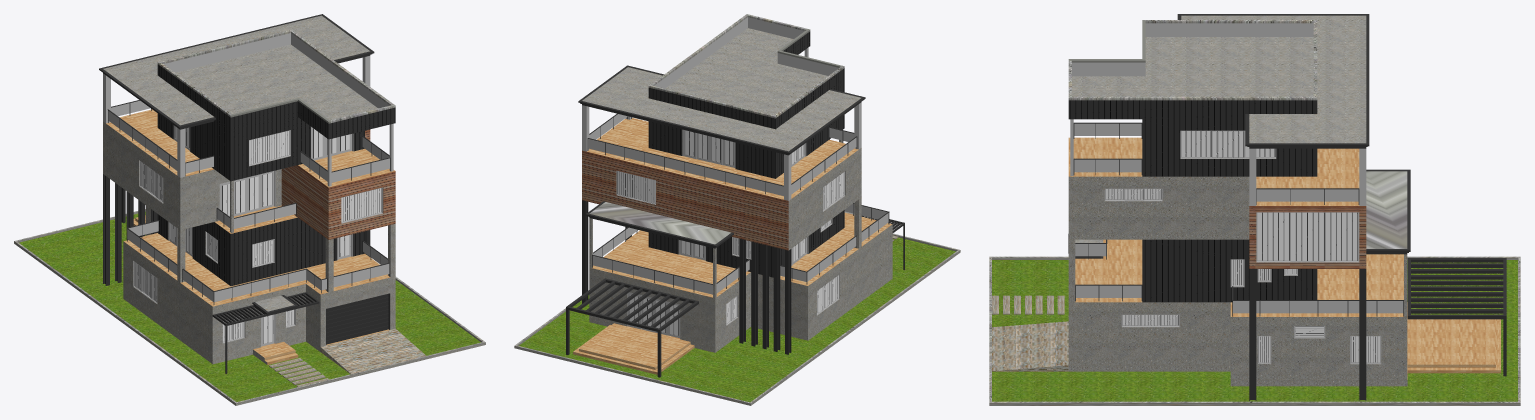
3 views of the same model, side by side, from view 1: azimuth 30°, elevation 25°; view 2: azimuth 150°, elevation 25°; view 3: azimuth 270°, elevation 25° (orthographic). The views are drawn at different scales.
Parts seen in each view (by area): view 1: 245obj17_color_0, 245obj17_metal Cladding_0, 245obj35_grass_0, 245obj17_wooden_0, 245obj40_color_0, 245obj17_wooden slide_0, 245obj17_color2_0, 245obj37_color_0, 245obj34_concrete_0, 245obj17_stone_0, 245obj04_Metal_0, 245obj36_Metal_0 (+20 smaller); view 2: 245obj17_color_0, 245obj35_grass_0, 245obj17_wooden slide_0, 245obj17_wooden_0, 245obj17_metal Cladding_0, 245obj40_color_0, 245obj17_stone_0, 245obj36_Metal_0, 245obj34_wooden_0, 245obj17_color2_0, 245obj39_Metal_0, 245obj37_color_0 (+18 smaller); view 3: 245obj17_color_0, 245obj35_grass_0, 245obj17_metal Cladding_0, 245obj17_wooden_0, 245obj17_stone_0, 245obj40_color_0, 245obj39_Metal_0, 245obj34_wooden_0, 245obj21_Glass_0, 245obj17_color2_0, 245obj37_color_0, 245obj34_concrete_0 (+19 smaller).
Boxes of the visible parts, <box> form: 245obj17_color_0: <box>103,44,395,358</box>; 245obj17_metal Cladding_0: <box>157,64,395,286</box>; 245obj35_grass_0: <box>19,211,480,401</box>; 245obj17_wooden_0: <box>106,109,395,306</box>; 245obj40_color_0: <box>103,15,369,125</box>; 245obj17_wooden slide_0: <box>281,129,395,239</box>; 245obj17_color2_0: <box>103,33,393,186</box>; 245obj37_color_0: <box>14,209,485,405</box>; 245obj34_concrete_0: <box>320,328,425,373</box>; 245obj17_stone_0: <box>146,205,395,346</box>; 245obj04_Metal_0: <box>326,293,389,344</box>; 245obj36_Metal_0: <box>103,174,370,285</box>; 245obj17_color_0: <box>589,28,892,335</box>; 245obj35_grass_0: <box>519,237,955,402</box>; 245obj17_wooden slide_0: <box>582,150,788,250</box>; 245obj17_wooden_0: <box>587,118,892,297</box>; 245obj17_metal Cladding_0: <box>648,31,844,277</box>; 245obj40_color_0: <box>582,67,860,151</box>; 245obj17_stone_0: <box>589,267,750,347</box>; 245obj36_Metal_0: <box>582,200,791,354</box>; 245obj34_wooden_0: <box>573,323,694,374</box>; 245obj17_color2_0: <box>582,17,861,200</box>; 245obj39_Metal_0: <box>566,278,698,377</box>; 245obj37_color_0: <box>514,233,960,405</box>; 245obj17_color_0: <box>1068,37,1407,379</box>; 245obj35_grass_0: <box>992,260,1517,401</box>; 245obj17_metal Cladding_0: <box>1068,100,1317,302</box>; 245obj17_wooden_0: <box>1068,137,1403,316</box>; 245obj17_stone_0: <box>1068,302,1230,365</box>; 245obj40_color_0: <box>1181,15,1366,143</box>; 245obj39_Metal_0: <box>1407,258,1506,376</box>; 245obj34_wooden_0: <box>1407,302,1500,379</box>; 245obj21_Glass_0: <box>1257,212,1357,260</box>; 245obj17_color2_0: <box>1070,23,1366,205</box>; 245obj37_color_0: <box>989,256,1520,405</box>; 245obj34_concrete_0: <box>992,321,1068,371</box>.
Size of the model in its own units: 15.2 by 13.31 by 23.35.
Materials: 12 (9 with a texture image).
